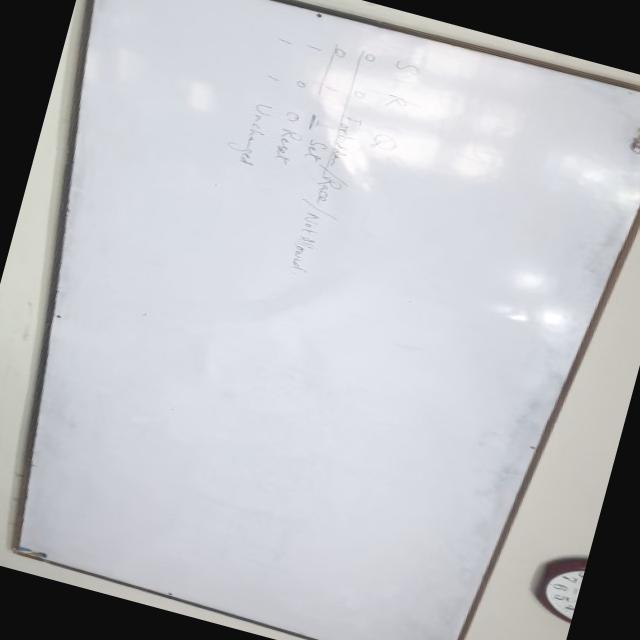White-board: (14, 0, 640, 640)
